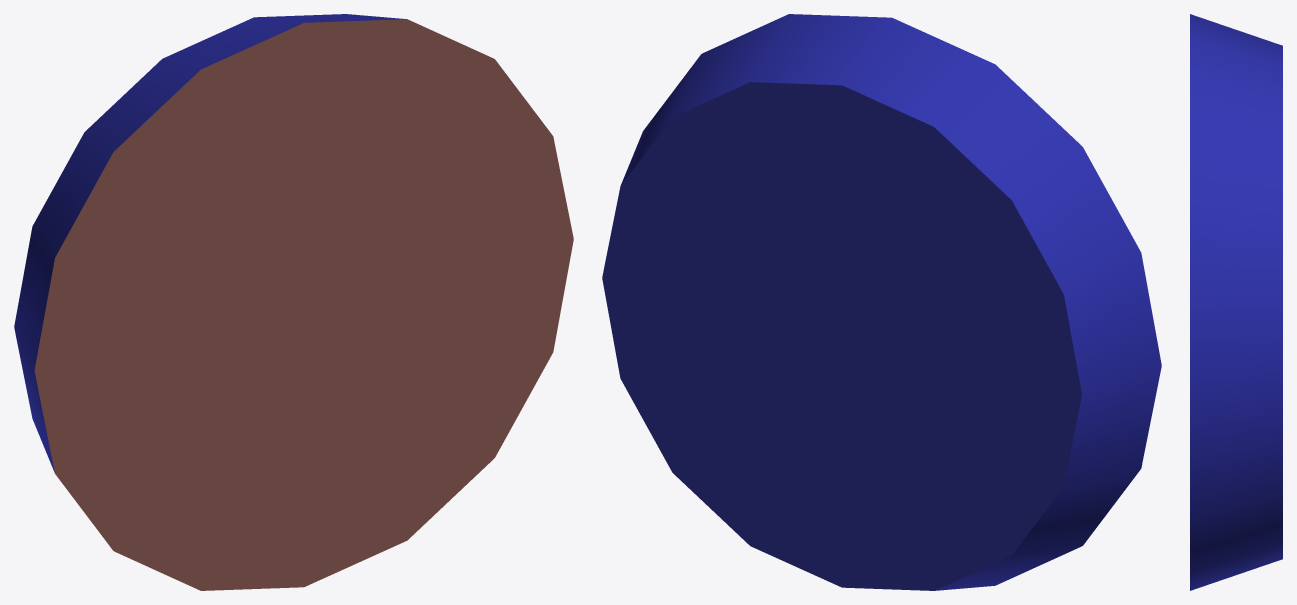
Rendered from Controller_SingleButton_01.fbx.
3 renders of one model, left to right at view 1: azimuth 30°, elevation 25°; view 2: azimuth 150°, elevation 25°; view 3: azimuth 270°, elevation 25°, orthographic. The views are drawn at different scales.
Parts seen in each view (by area): view 1: Controller_SingleButton_01; view 2: Controller_SingleButton_01; view 3: Controller_SingleButton_01.
Boxes of the visible parts, x1,y1,x2,y2 form: Controller_SingleButton_01: [14, 14, 573, 590]; Controller_SingleButton_01: [602, 14, 1161, 590]; Controller_SingleButton_01: [1190, 14, 1282, 590].
Bounding box in the file's own units: 2.82 × 2.82 × 0.4536.
